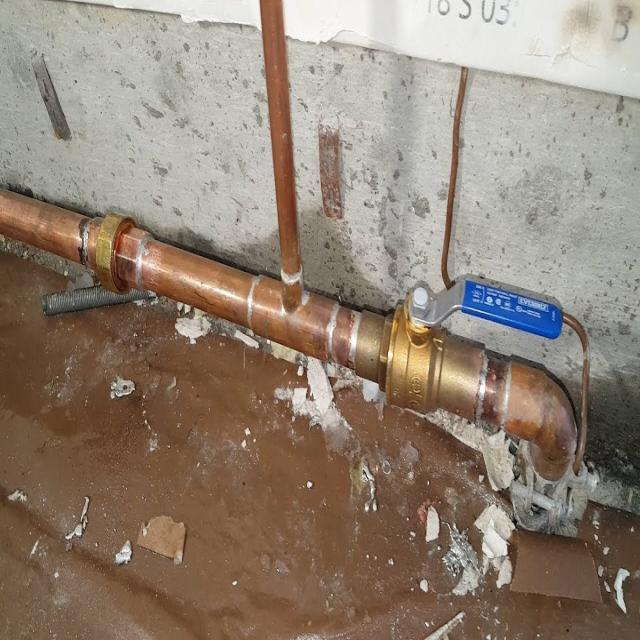Lever Handle Valve Threaded: (387, 273, 563, 423)
